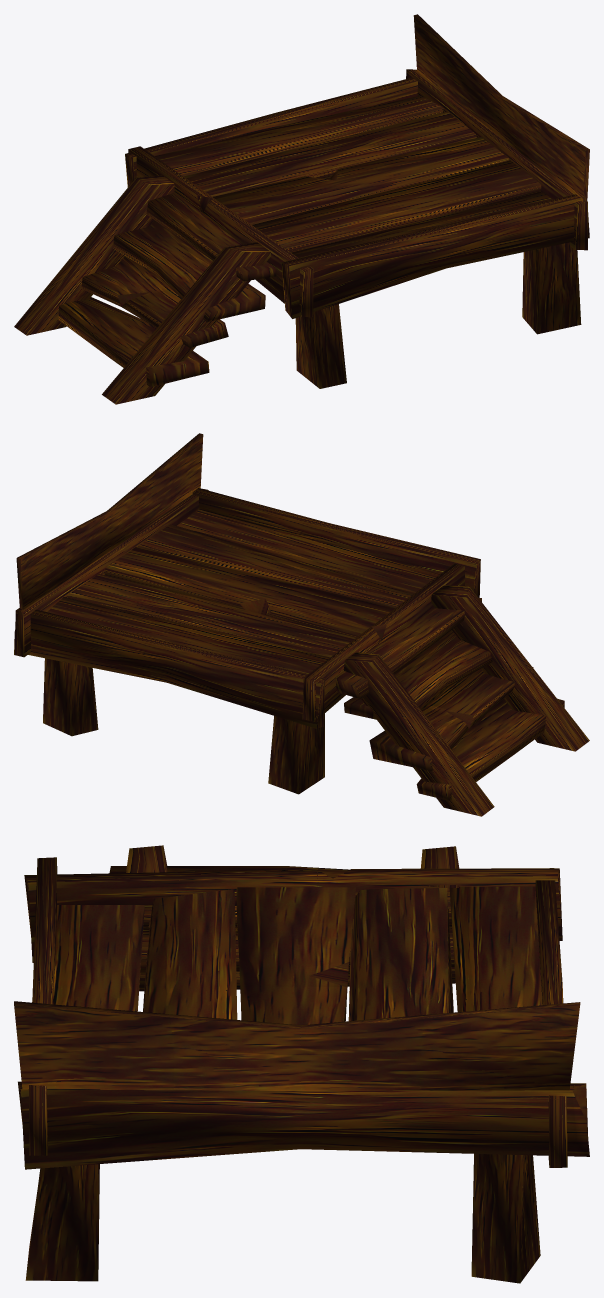
File: Foundation_Wood_01.glb
The picture shows the model from 3 angles, top to bottom: view 1: azimuth 30°, elevation 25°; view 2: azimuth 150°, elevation 25°; view 3: azimuth 270°, elevation 25°; orthographic projection. The views are drawn at different scales.
Visible parts, largest first — view 1: Foundation_Wood_01; view 2: Foundation_Wood_01; view 3: Foundation_Wood_01.
Boxes of the visible parts, x1,y1,x2,y2 form: Foundation_Wood_01: [14, 14, 589, 404]; Foundation_Wood_01: [14, 433, 589, 816]; Foundation_Wood_01: [14, 845, 589, 1283].
Bounding box in the file's own units: 3.9 × 1.5 × 2.74.
Materials: 1 (1 with a texture image).
